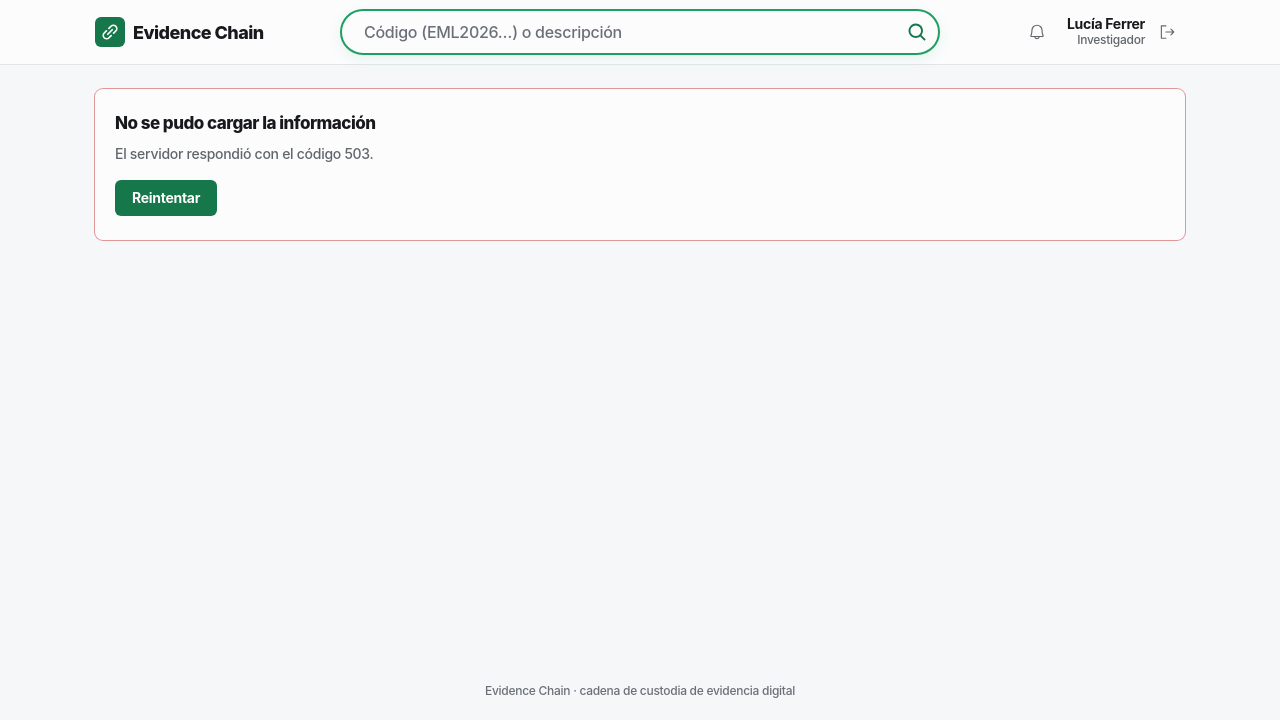
InboxPage › explains a failed request in Spanish and recovers on retry
The width and height of the screenshot is (1280, 720).
Check: the message shows "No se pudo cargar la información", box [115,113,376,133]
Click the button "Reintentar". click: (166, 198)
box: [115,180,217,216]
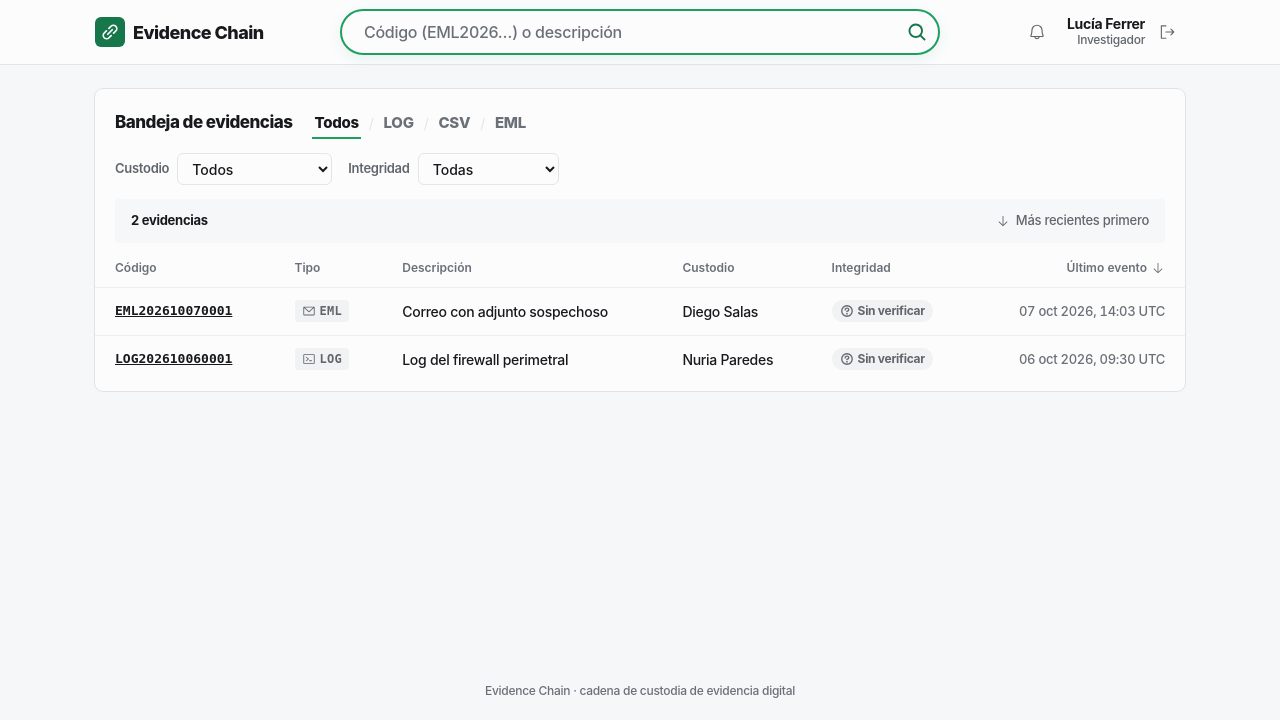
Check: the table is shown, box [95,249,1185,383]
